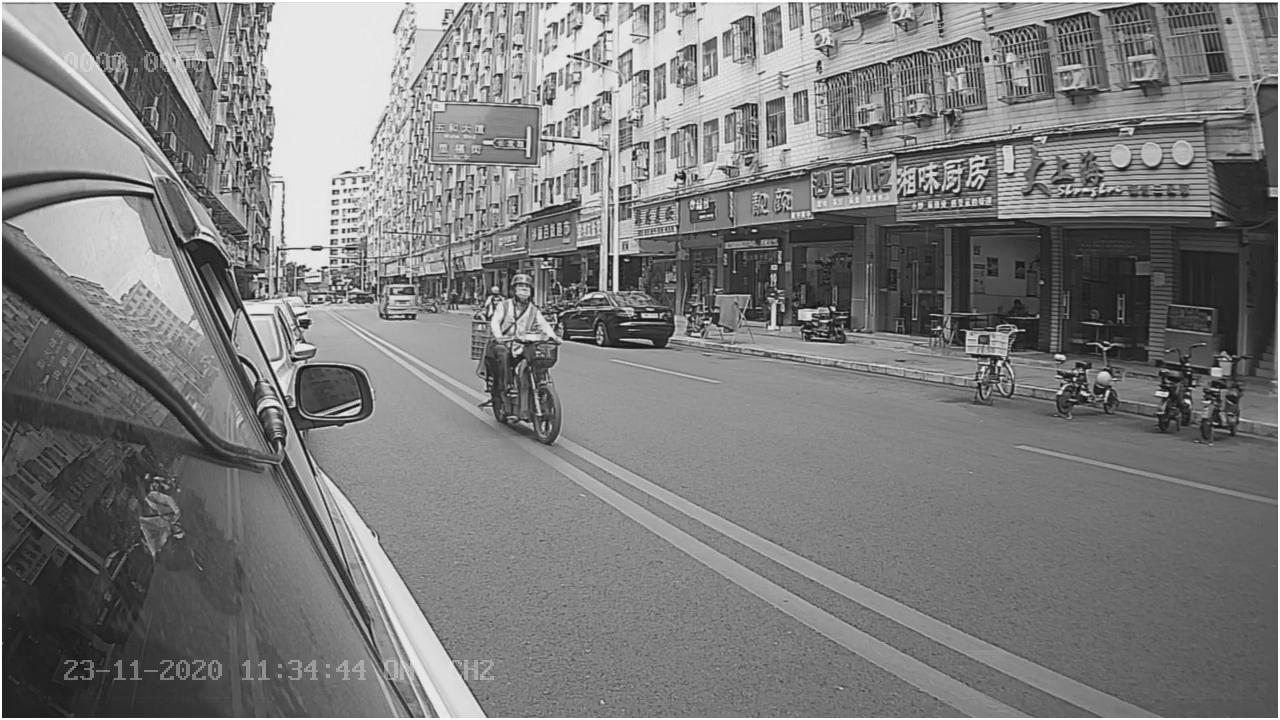person: (486, 272, 559, 340)
